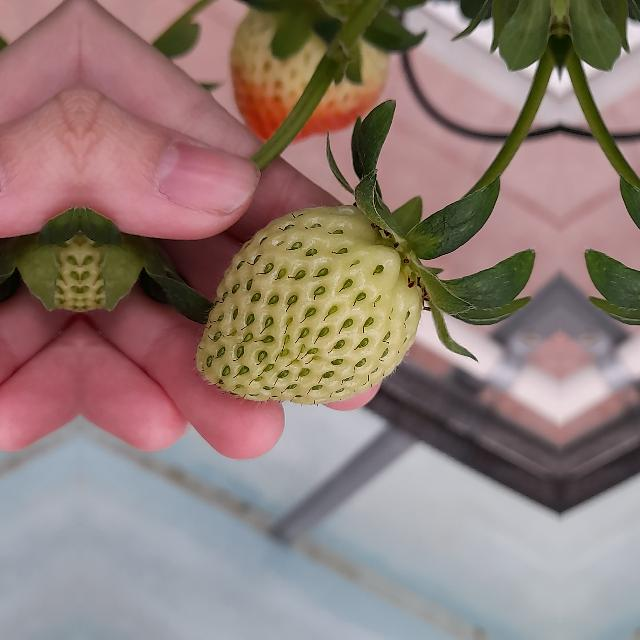Health_25: (195, 203, 422, 404)
Health_50: (228, 2, 382, 144)
